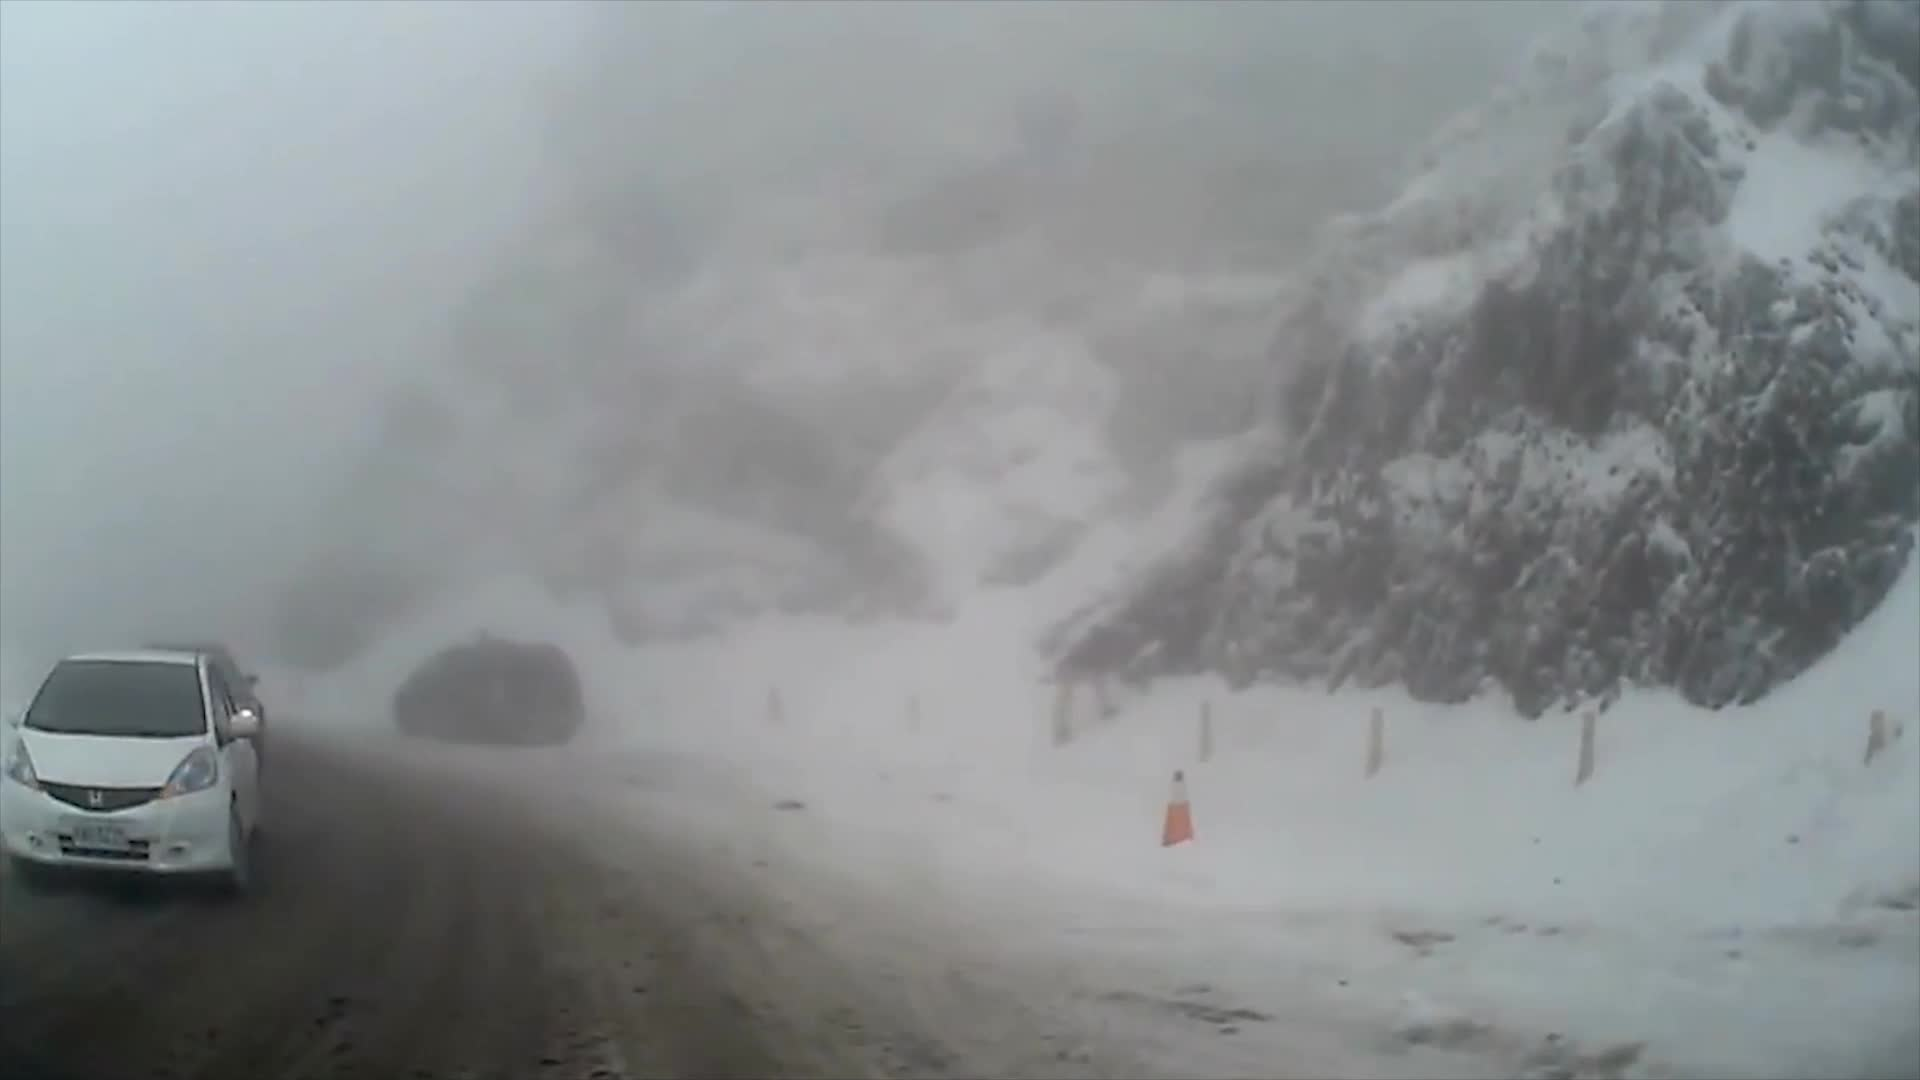vehicle: (0, 649, 258, 905), (397, 647, 589, 756)
